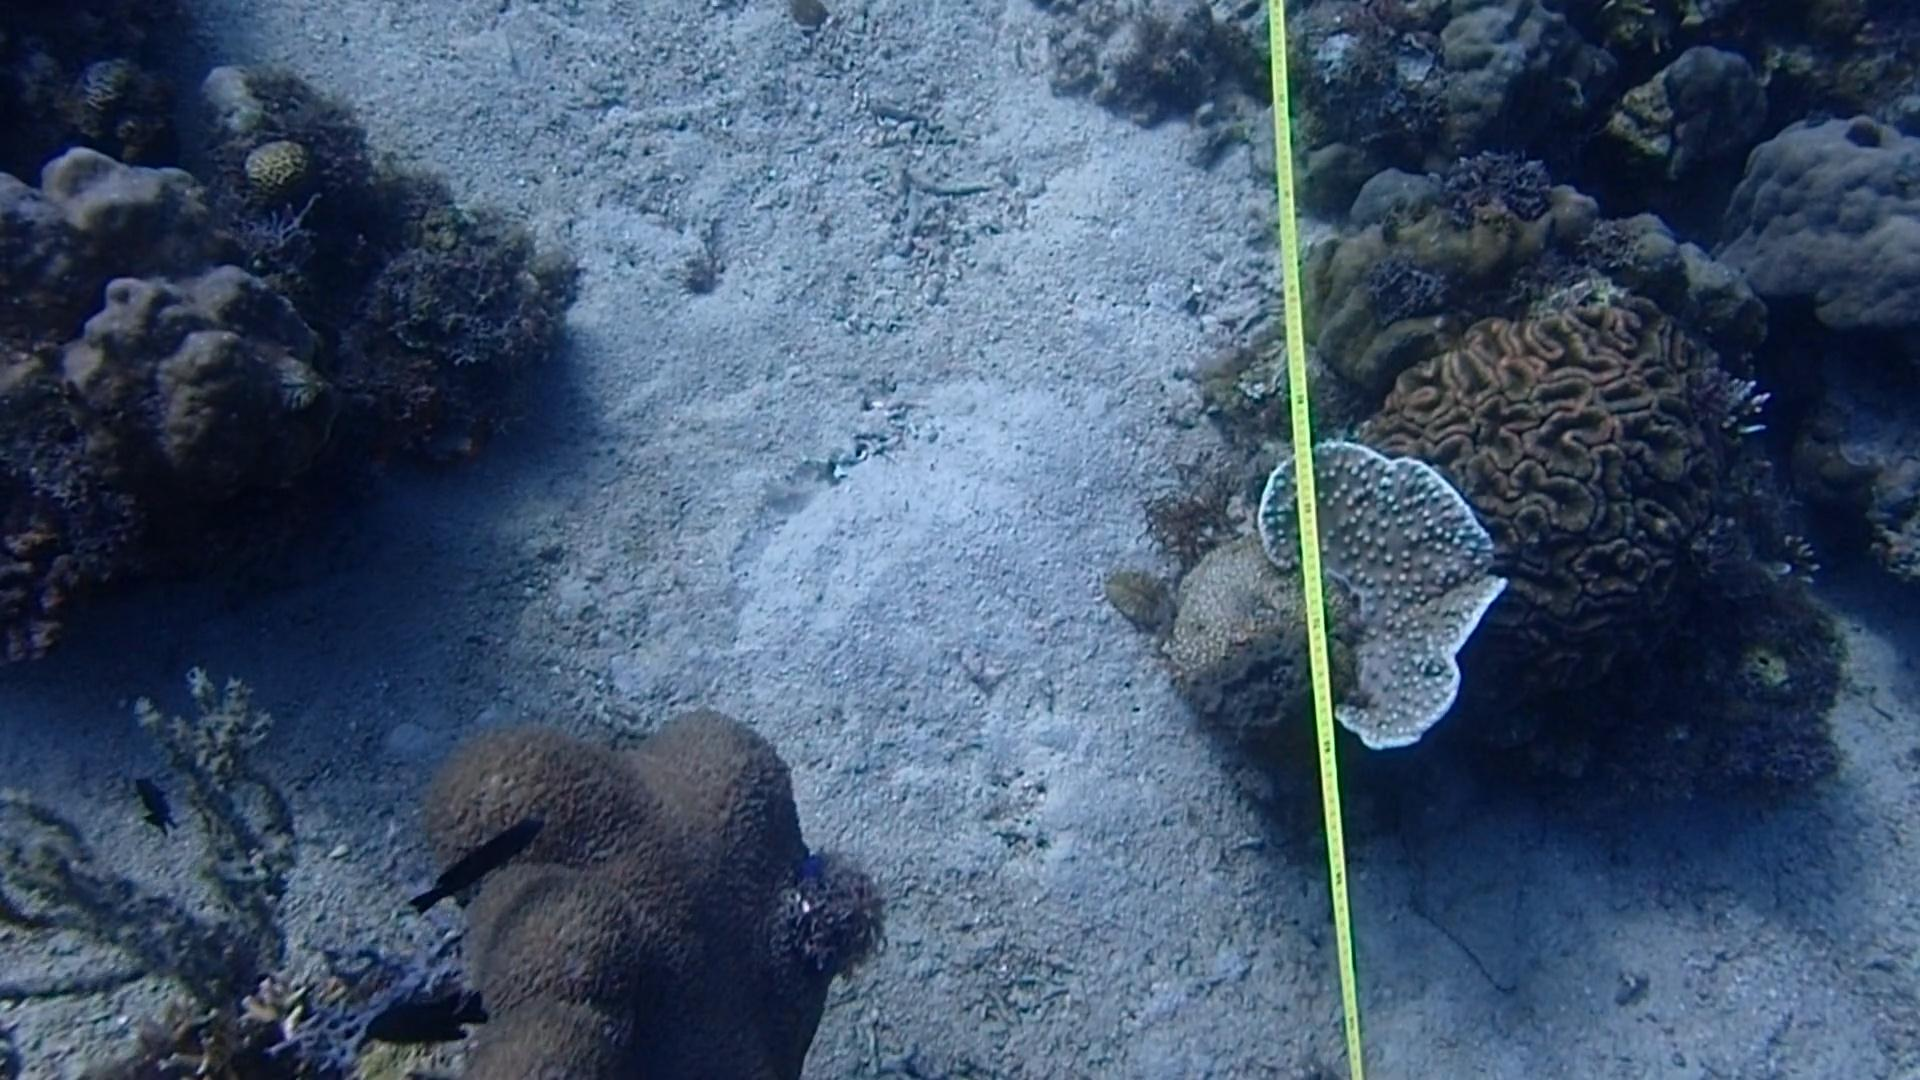Dark Fish: (397, 803, 545, 923), (349, 971, 498, 1058), (125, 769, 185, 852)
